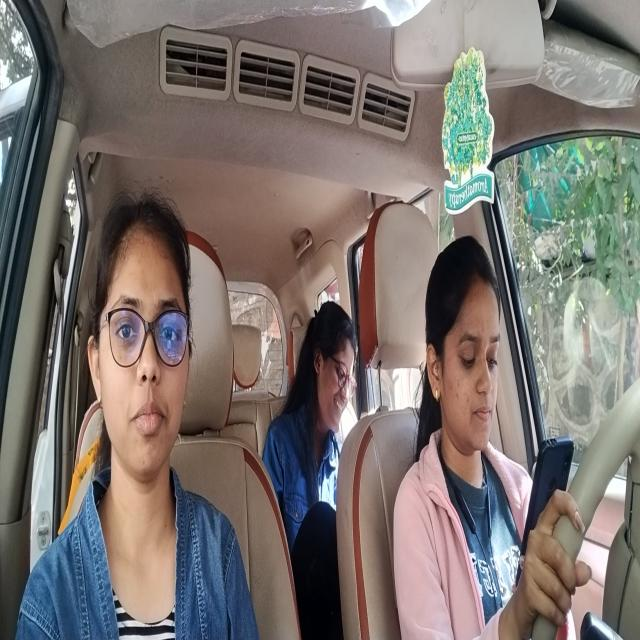mobile: (518, 416, 575, 602)
person: (88, 188, 194, 492), (427, 222, 507, 474), (310, 288, 358, 452)
